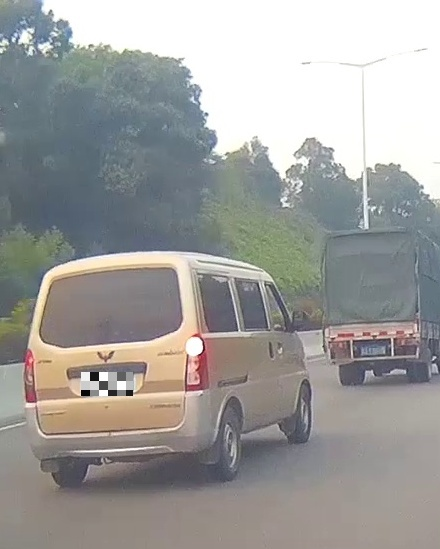L_light: (24, 349, 37, 403), (329, 341, 348, 349)
R_light: (185, 333, 210, 391), (395, 338, 418, 346)
T_light: (100, 264, 124, 273), (368, 326, 382, 332)
day-no: (321, 227, 421, 385)
day-right: (23, 250, 212, 489)
plate_1: (81, 372, 133, 396)
